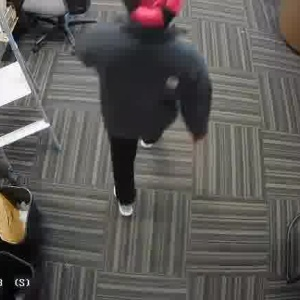person: (88, 0, 198, 215)
